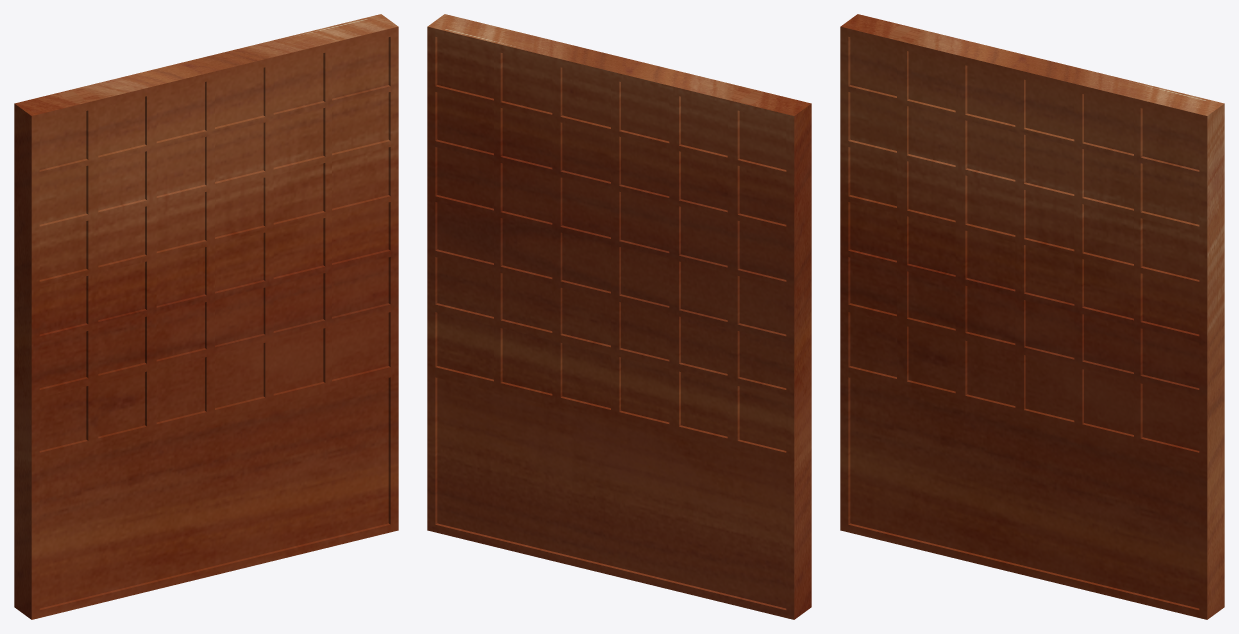
The model's file is NNJ0510002.fbx.
The picture shows the model from 3 angles, left to right: view 1: azimuth 30°, elevation 25°; view 2: azimuth 150°, elevation 25°; view 3: azimuth 330°, elevation 25°; orthographic projection.
Parts seen in each view (by area): view 1: smNNJ0510002; view 2: smNNJ0510002; view 3: smNNJ0510002.
Boxes of the visible parts, x1=… form: smNNJ0510002: x1=14, y1=14, x2=398, y2=619; smNNJ0510002: x1=427, y1=14, x2=811, y2=619; smNNJ0510002: x1=840, y1=14, x2=1224, y2=619.
Size of the model in its own units: 222 by 291 by 18.09.
1 material, 1 textured.
